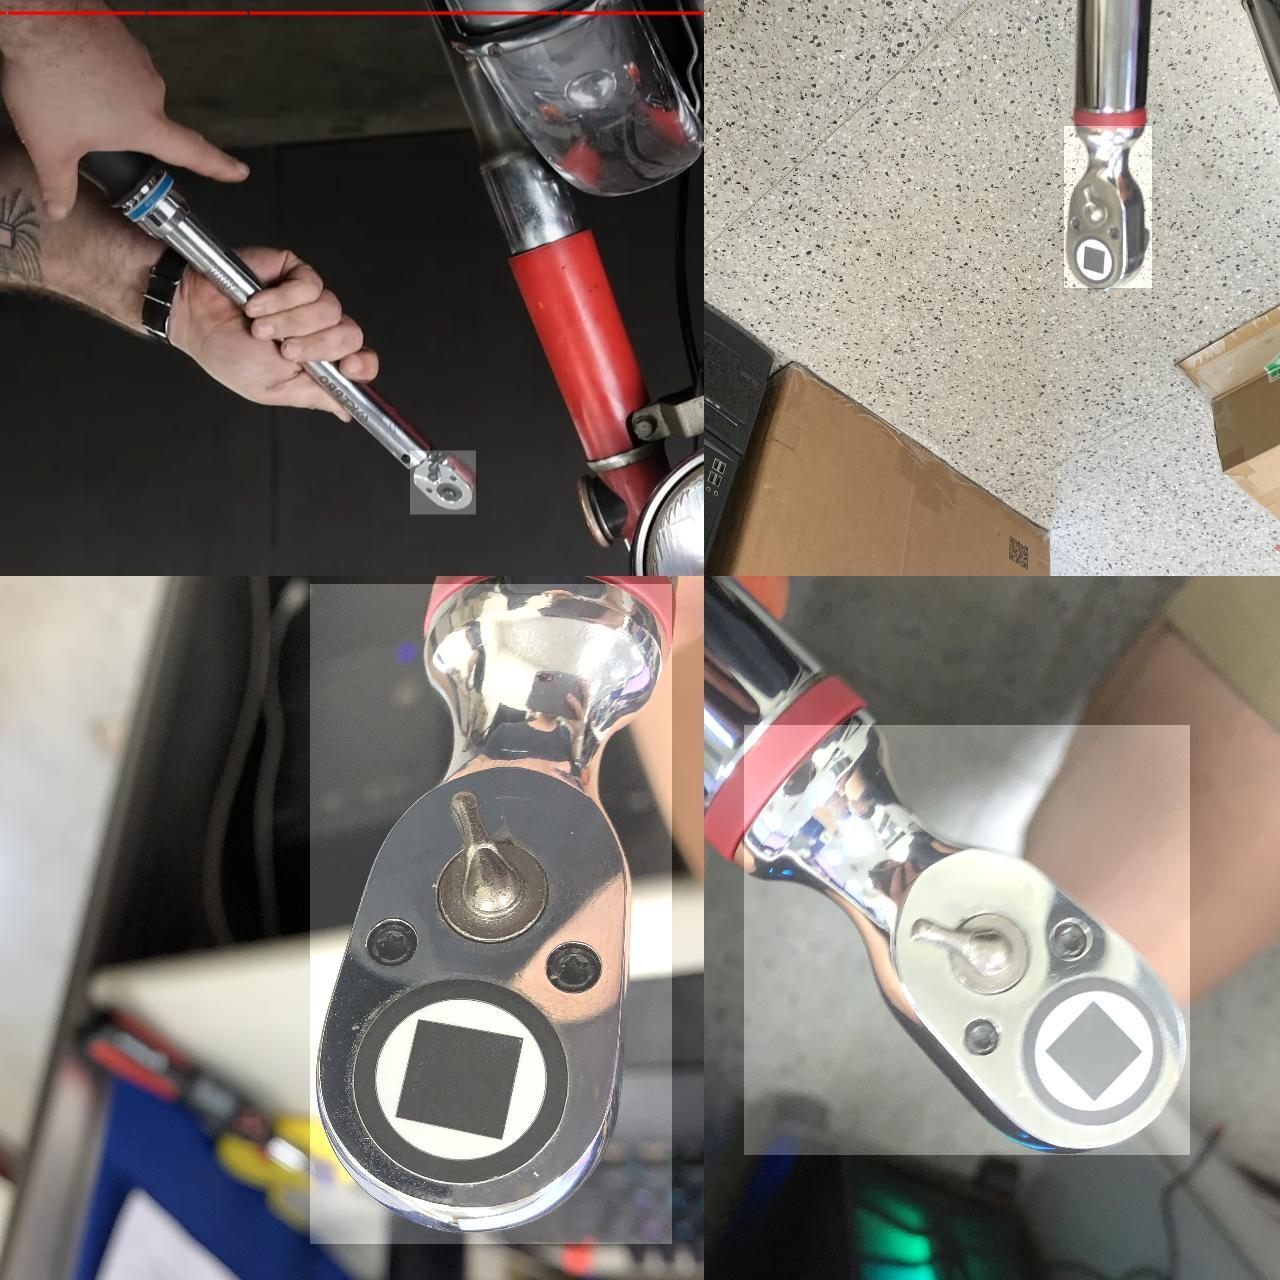Tool: (309, 583, 670, 1242), (742, 724, 1190, 1155), (1063, 125, 1151, 287), (409, 450, 475, 515)
